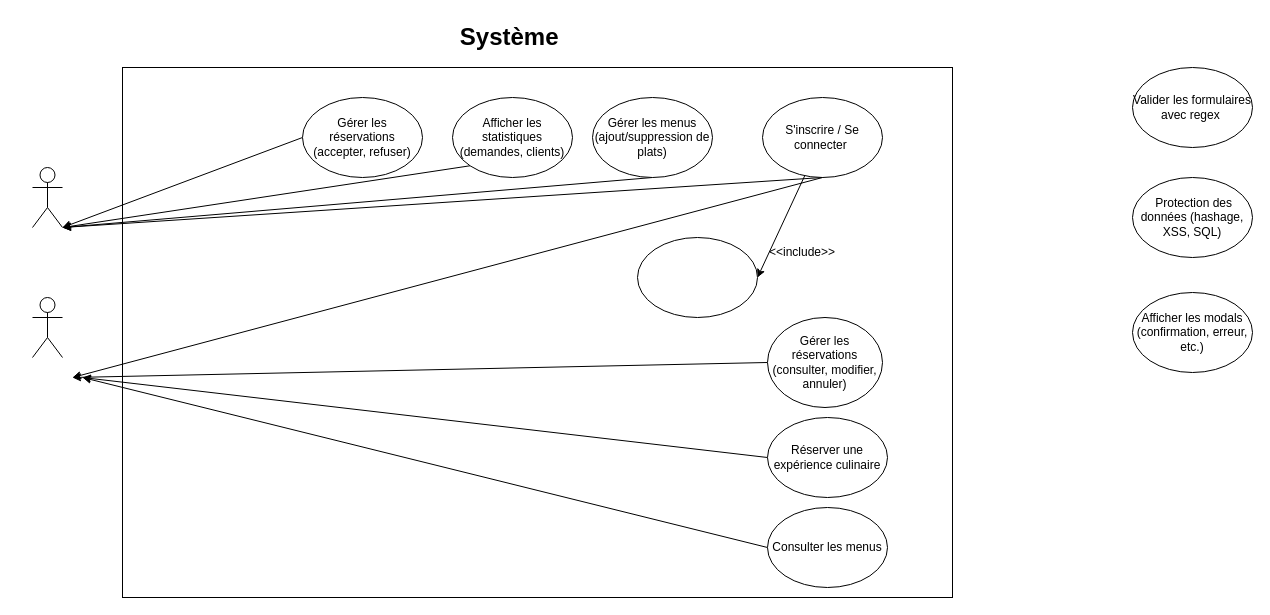
Image size: 1270x615. Some labels were removed from this diagram. Each missing label, with the centre of its shape:
Chaf: (x=47, y=197)
Utilisateur: (x=47, y=327)
Valider les formulaires: (x=697, y=277)
